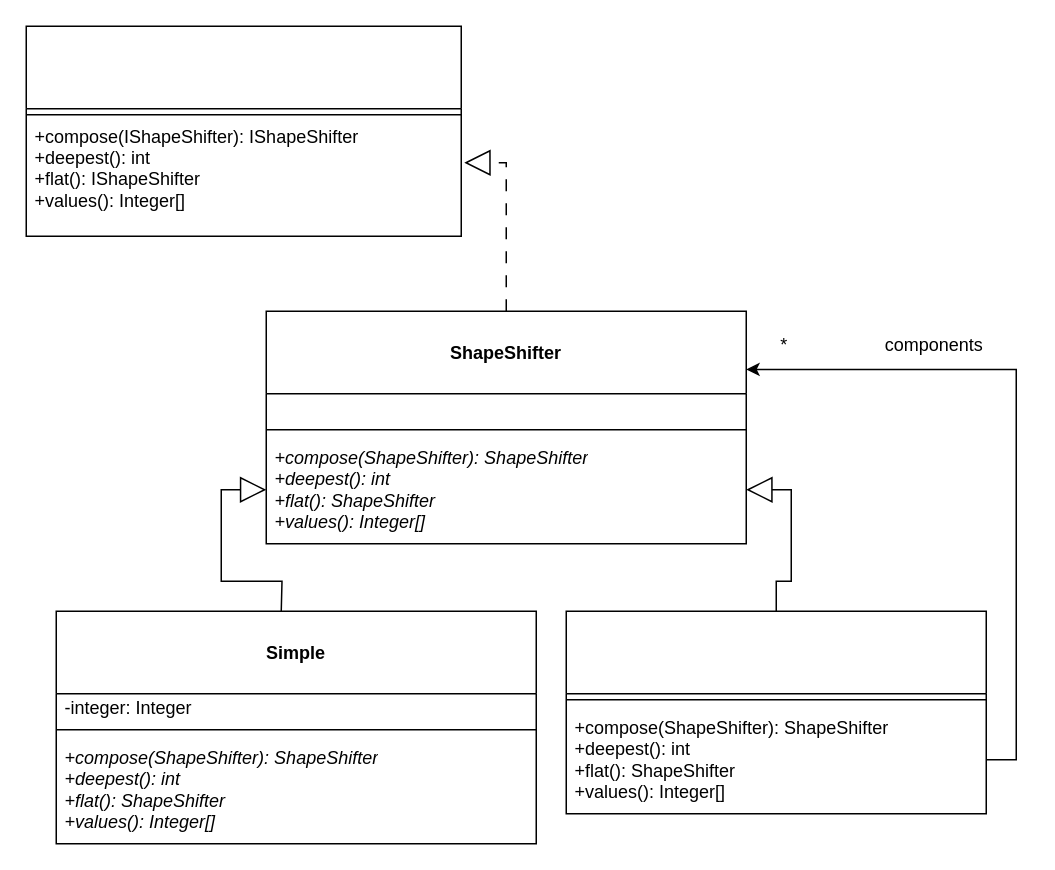
Image size: 1055x870. Some labels were removed from this diagram. The shapes that lost their labels are listed below. From the top down, each one's box as (x1, y1, x2, y2) in pixels, then its label:
(25, 25, 461, 236): <<interface>> IShapeShifter
(565, 610, 986, 814): Composed
